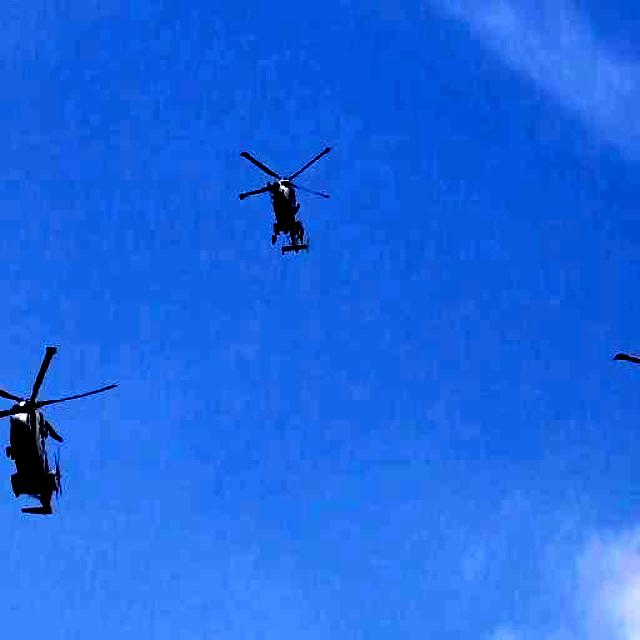drone: (0, 339, 120, 534), (229, 131, 342, 282)
